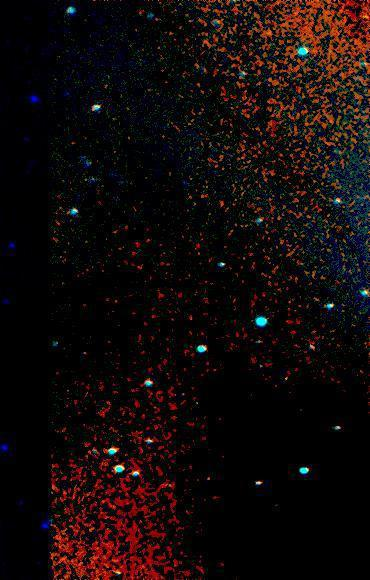star: (350, 2, 370, 32)
